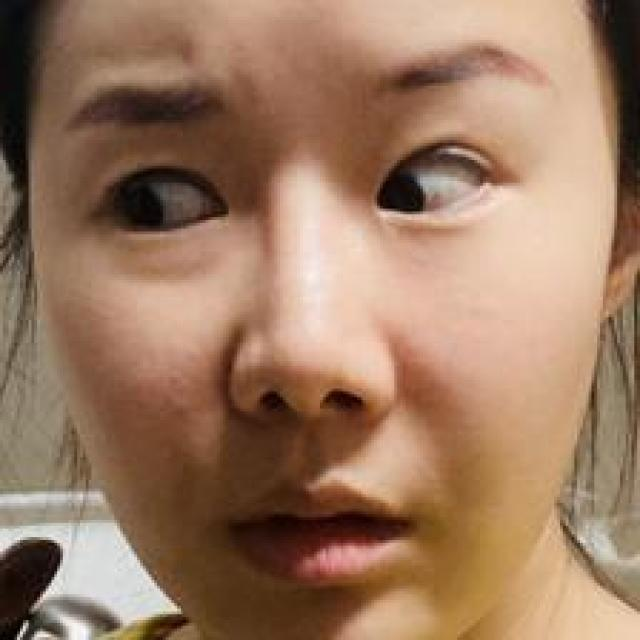fear: (60, 28, 555, 566)
